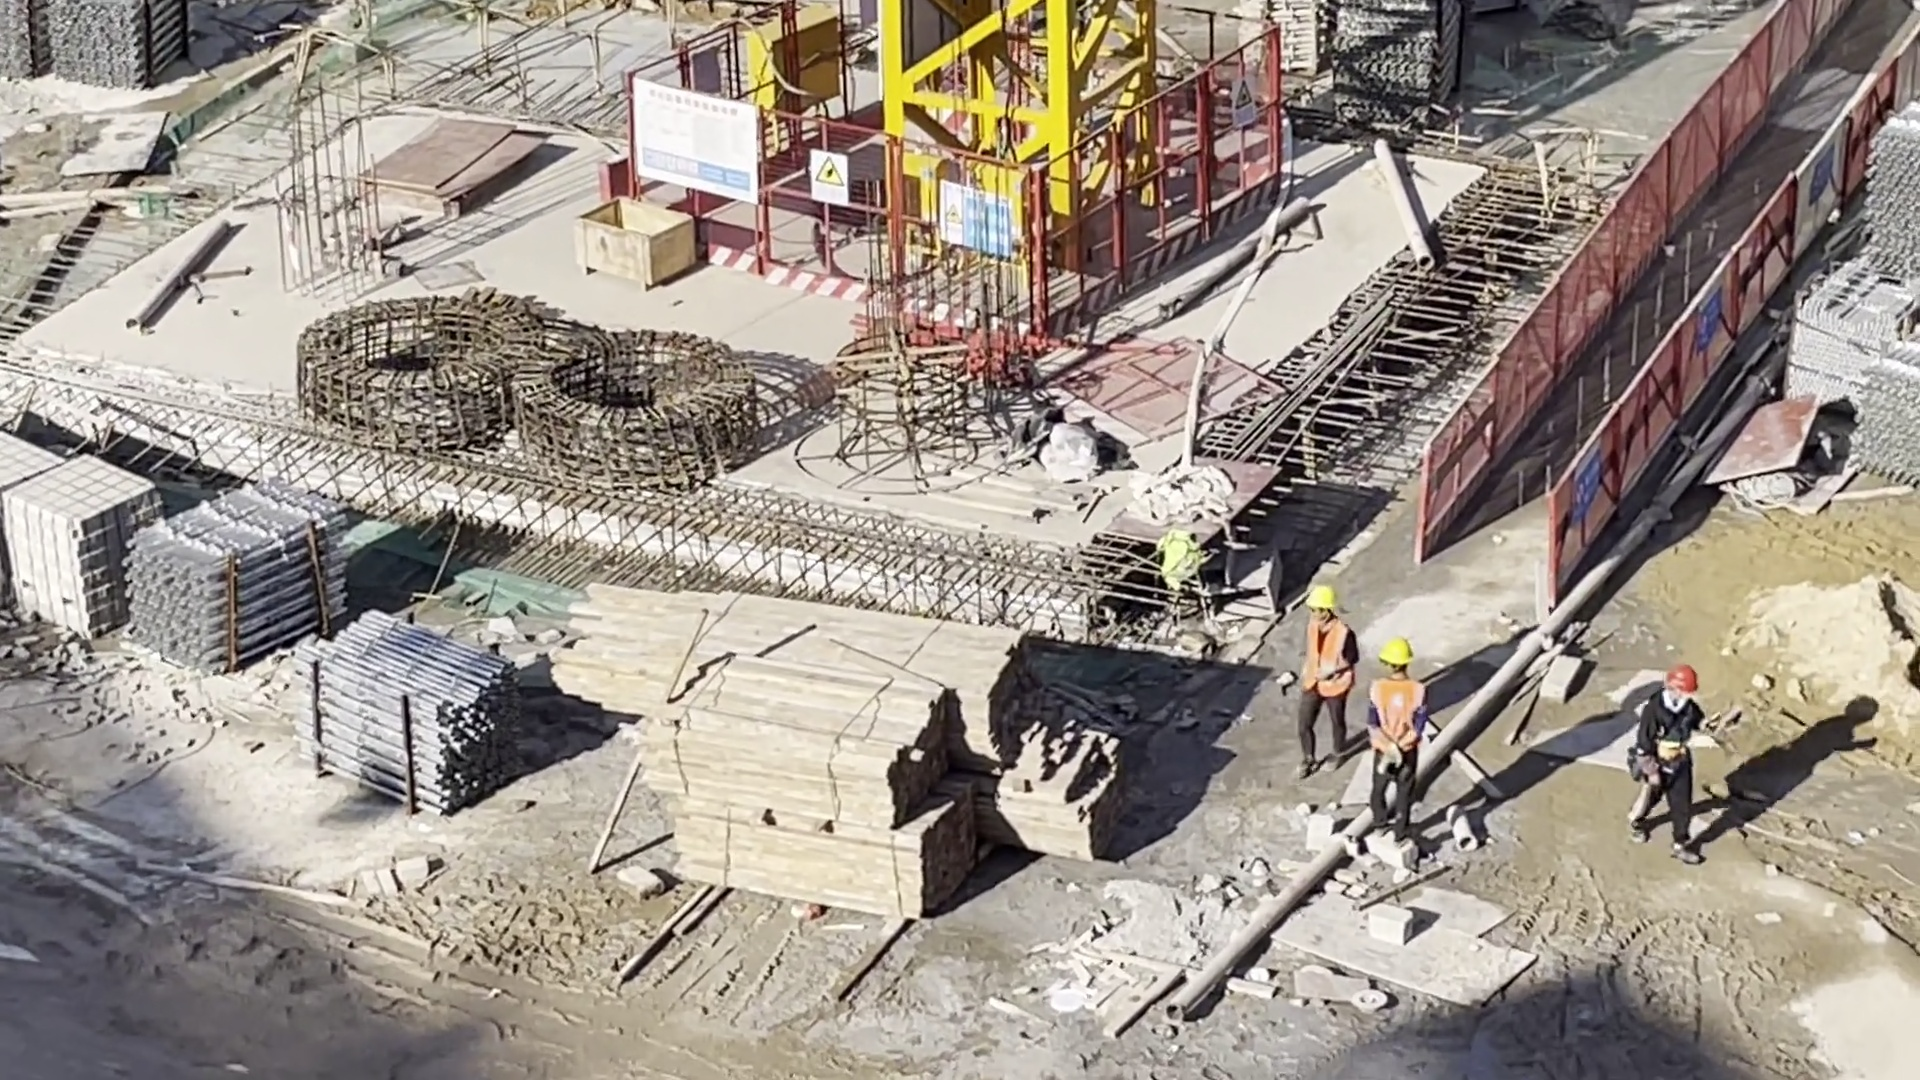board: (358, 116, 524, 222)
brick: (1, 461, 146, 618)
ebox: (751, 14, 835, 115)
fence: (1425, 8, 1920, 576)
helmet: (1667, 665, 1699, 695), (1380, 640, 1412, 667), (1304, 587, 1337, 612)
person: (1629, 666, 1706, 865), (1367, 640, 1424, 846), (1297, 588, 1352, 773)
scaffold: (298, 612, 523, 807), (129, 492, 347, 661), (1270, 1, 1458, 126), (1, 1, 193, 89), (1869, 96, 1920, 269), (1858, 337, 1920, 480)
slogan: (932, 189, 1015, 264), (1571, 445, 1604, 510), (1694, 274, 1721, 346), (812, 153, 846, 203), (1231, 74, 1259, 127)
vest: (1301, 622, 1350, 697), (1373, 681, 1419, 757)
wood: (567, 587, 1055, 793), (663, 668, 981, 916)
